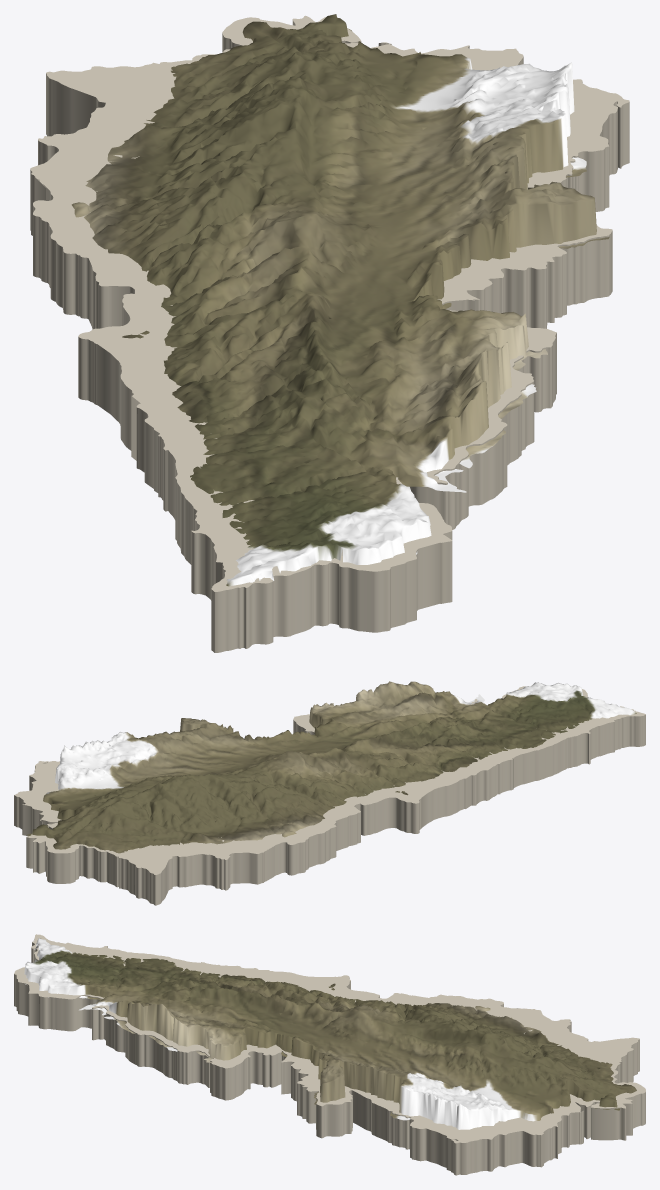
The model's file is lebanon_terrain_mobile.glb.
The picture shows the model from 3 angles, top to bottom: view 1: azimuth 30°, elevation 25°; view 2: azimuth 150°, elevation 25°; view 3: azimuth 270°, elevation 25°; orthographic projection. The views are drawn at different scales.
Visible parts, largest first — view 1: Lebanon_Mobile, Curve.001; view 2: Lebanon_Mobile, Curve.001; view 3: Lebanon_Mobile, Curve.001.
Boxes of the visible parts, box(x1,y1,x2,y2) form: Lebanon_Mobile: box(71, 14, 609, 586); Curve.001: box(30, 15, 629, 652); Lebanon_Mobile: box(27, 681, 636, 853); Curve.001: box(14, 685, 645, 905); Lebanon_Mobile: box(24, 938, 636, 1129); Curve.001: box(14, 934, 645, 1175).
Bounding box in the file's own units: 7.77 × 1.14 × 9.93.
2 materials, 1 textured.
